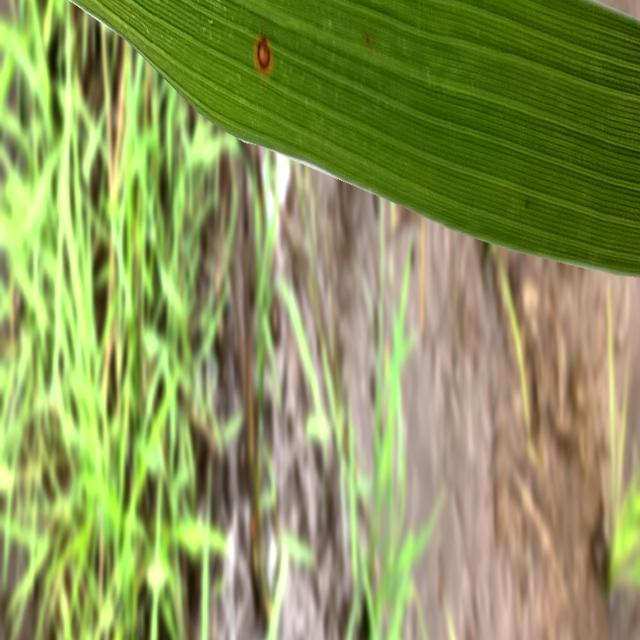LEAF BLAST: (257, 38, 271, 70)
